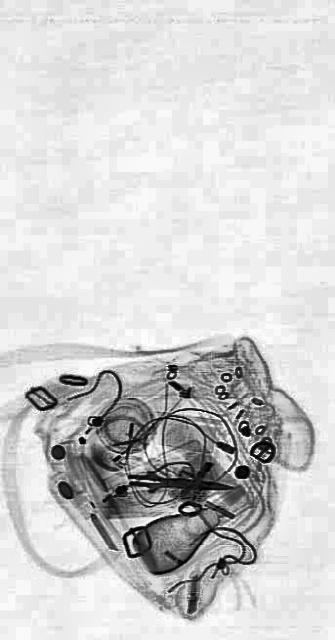Knife: (126, 470, 232, 496)
